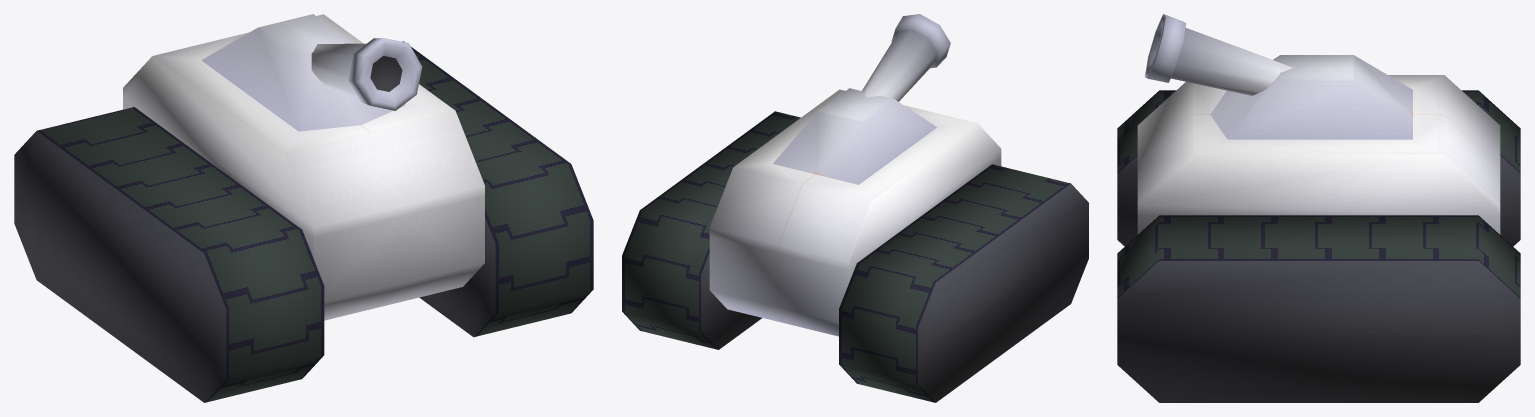
The model's file is tank_2.glb.
3 views of the same model, side by side, from view 1: azimuth 30°, elevation 25°; view 2: azimuth 150°, elevation 25°; view 3: azimuth 270°, elevation 25° (orthographic). The views are drawn at different scales.
Parts seen in each view (by area): view 1: tank; view 2: tank; view 3: tank.
Boxes of the visible parts, x1,y1,x2,y2 form: tank: [14, 14, 593, 402]; tank: [622, 14, 1088, 402]; tank: [1117, 14, 1520, 402].
Size of the model in its own units: 4.68 by 3.87 by 4.68.
4 materials, 4 textured.
